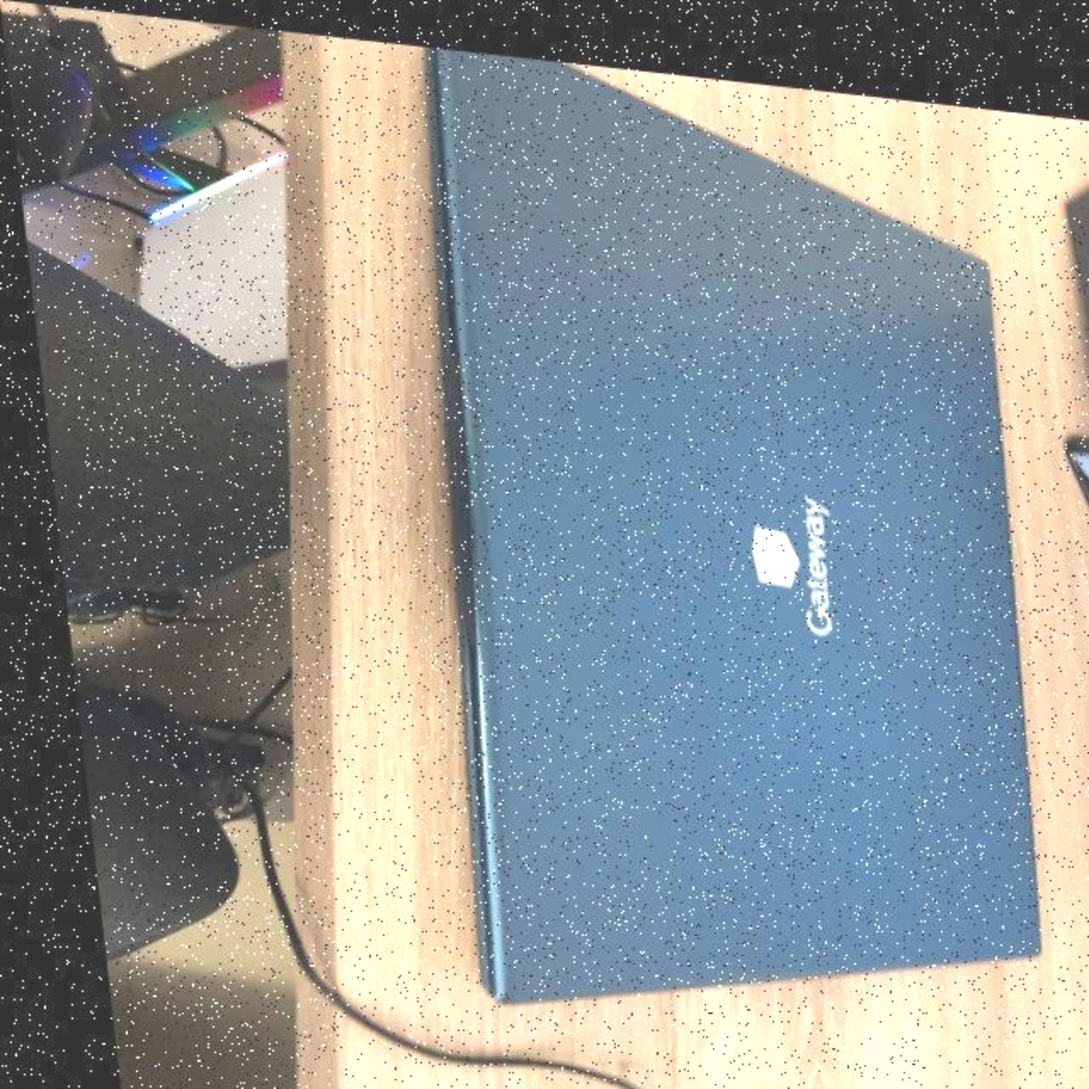laptop: (369, 32, 1060, 1046)
